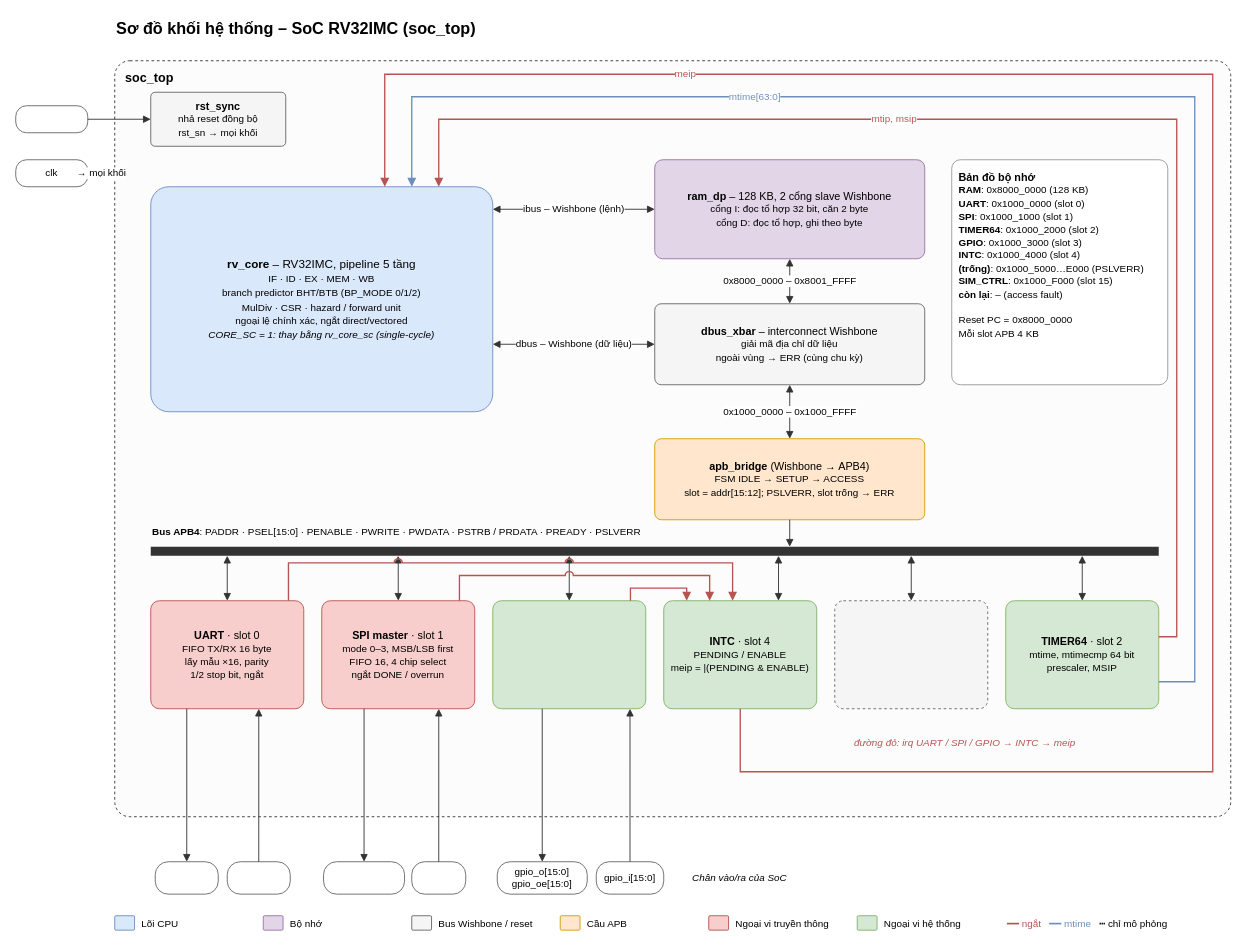
Image size: 1256x949. Some labels were removed from this diagram. Here are the shapes that lost their labels. From the top down, the centre of each, then its label:
At point (51, 119): "rst_n".
At point (569, 654): "GPIO · slot 3 16 chân, hướng từng bit ngắt cạnh lên / xuống".
At point (911, 654): "SIM_CTRL · slot 15 PUTCHAR, EXIT chỉ dùng khi mô phỏng".
At point (186, 877): "uart_tx".
At point (258, 877): "uart_rx".
At point (364, 877): "sclk · mosi cs_n[3:0]".
At point (438, 877): "miso".
